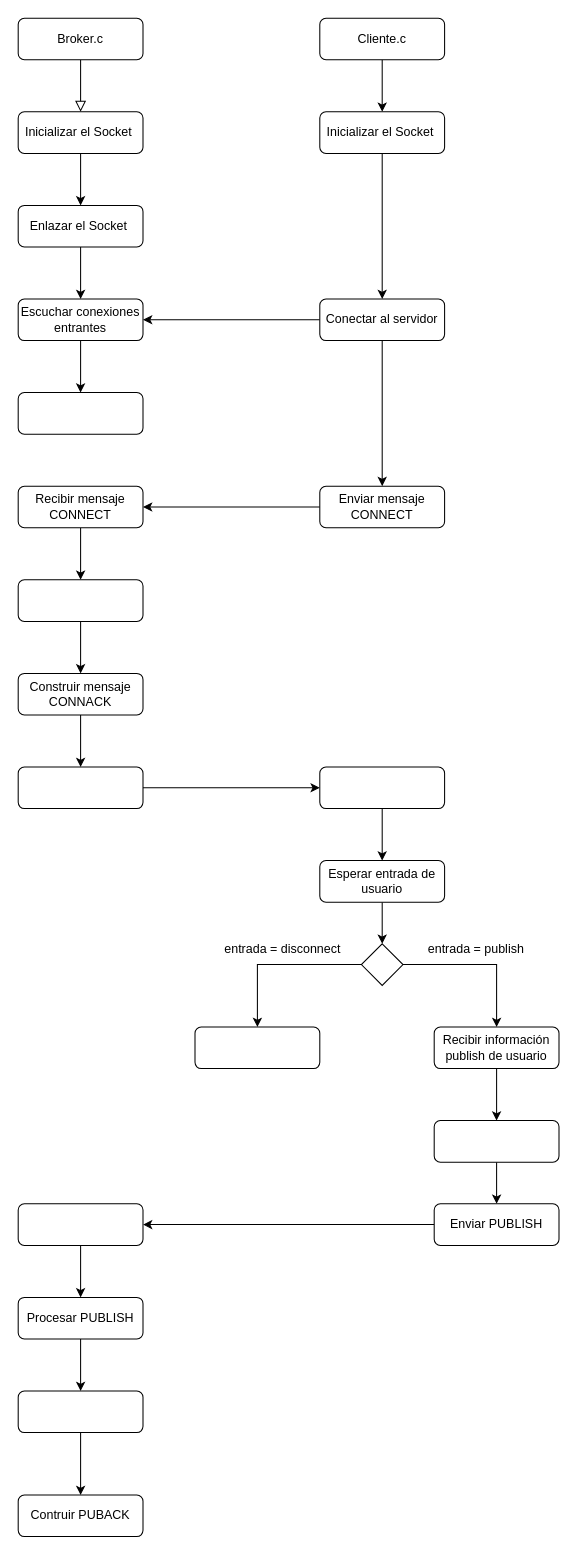
This 577x1555 diagram has some shape labels left out. Here are the shapes that lost their labels. From the top down, the centre of each, then its label:
pixel 80 413: Aceptar conexión entrante
pixel 80 600: Procesar mensaje CONNNECT
pixel 80 787: Enviar CONNACK al cliente
pixel 382 787: Recibir mensaje CONNACK
pixel 257 1047: Cerrar conexión
pixel 496 1141: Contruir mensaje PUBLISH
pixel 80 1224: Esperar por mensajes del cliente
pixel 80 1411: Recibir PUBLISH
